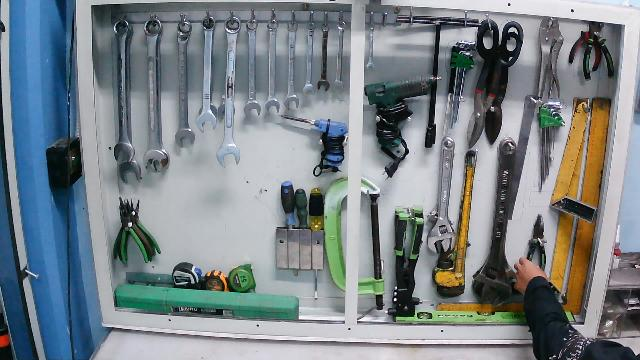tang_kombinasi: (523, 211, 550, 282)
